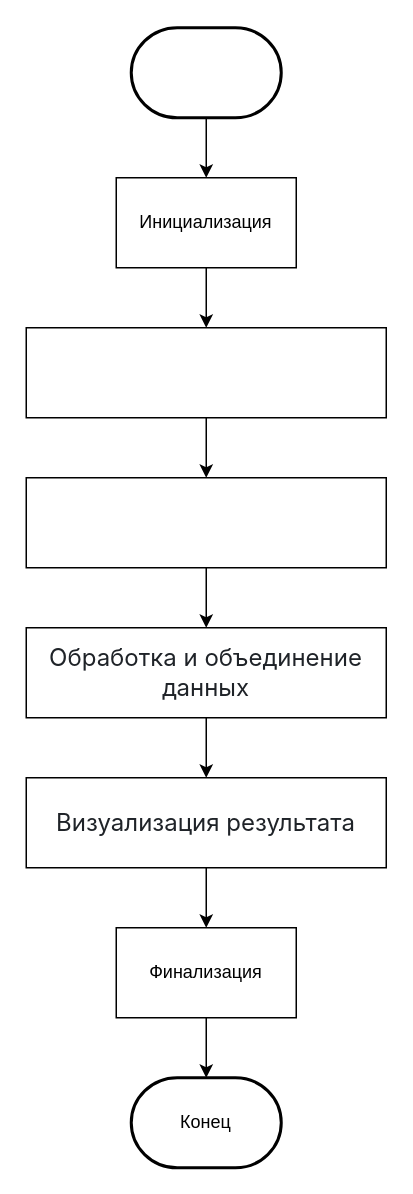
This 413x1194 diagram has some shape labels left out. The box of each missing label's shape, as (x1, y1, x2, y2) in pixels:
Загрузка данных о медианных зарплатах: (25, 476, 386, 568)
Загрузка индекса потребительских цен: (25, 326, 386, 418)
Начало: (129, 26, 282, 118)
